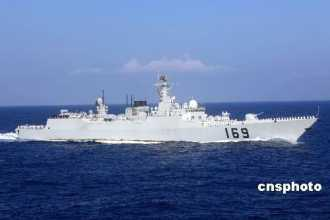warship: (10, 81, 316, 144)
